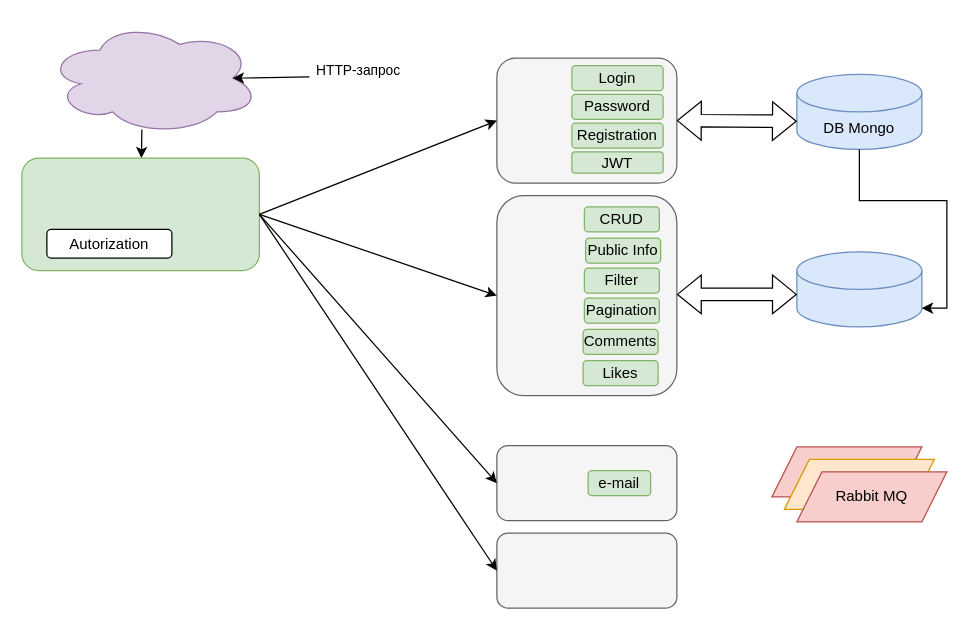
The diagram is 979 pixels wide and 630 high, and some of its shapes have lost their labels. The box of each missing label's shape, as (x1, y1, x2, y2) in pixels:
Account: (496, 57, 677, 183)
API Gateware: (21, 157, 259, 271)
DB Postgre SQL: (796, 251, 922, 327)
Notify: (496, 444, 677, 521)
Publication: (496, 194, 677, 396)
